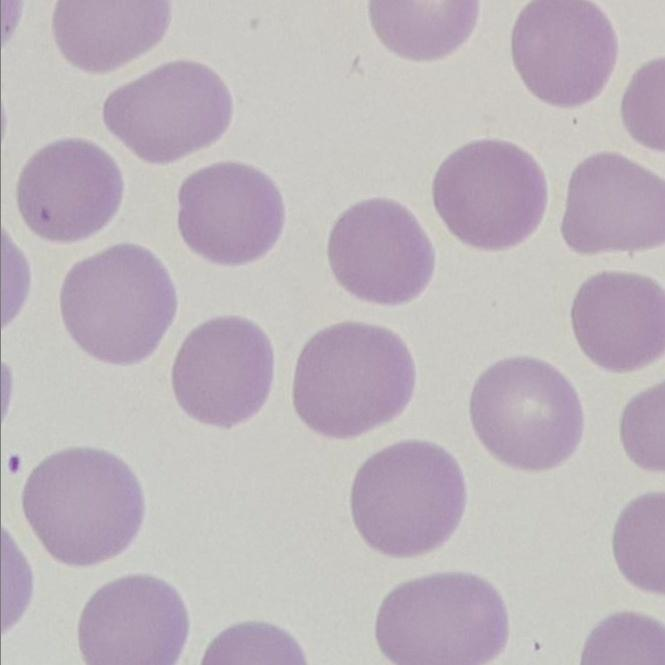Uninfected: (22, 446, 144, 564), (353, 436, 467, 559), (295, 324, 414, 436), (58, 247, 173, 362), (432, 139, 546, 252), (102, 65, 232, 162), (472, 356, 584, 465), (512, 0, 622, 107), (327, 197, 435, 305), (170, 314, 275, 424), (375, 577, 506, 665), (15, 139, 122, 242), (182, 161, 285, 265), (565, 152, 665, 259), (570, 267, 665, 378), (75, 574, 185, 665)
